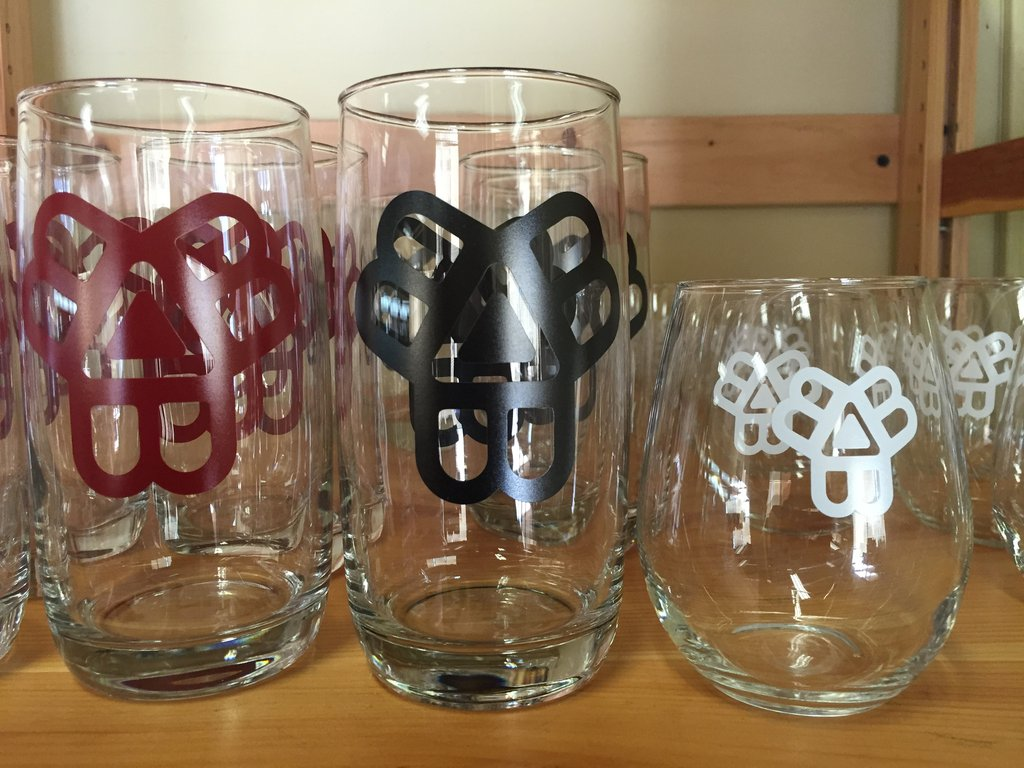Nonrec_Glass: (329, 42, 655, 724), (15, 60, 353, 709), (635, 216, 979, 728)
